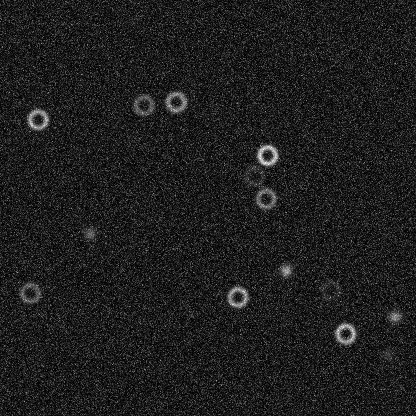Ring: (242, 163, 266, 187), (333, 321, 357, 345), (253, 186, 277, 210), (318, 278, 342, 302), (255, 143, 279, 167), (225, 284, 249, 308), (163, 89, 187, 113), (131, 92, 155, 116), (18, 280, 42, 304), (25, 107, 49, 131)
Spot: (81, 225, 97, 241), (380, 346, 396, 362), (277, 262, 293, 278), (386, 308, 402, 324)
